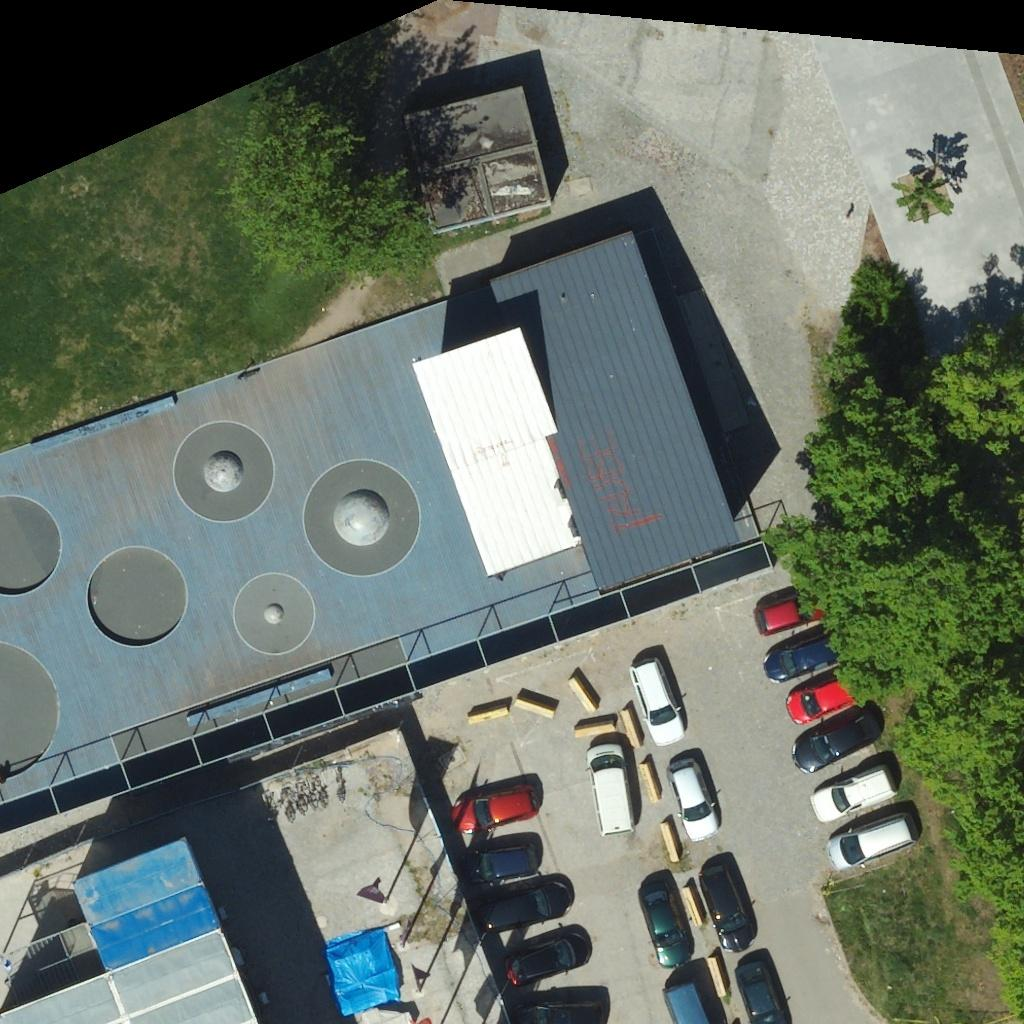samochod_osobowy: (793, 706, 880, 772), (638, 871, 693, 968), (506, 926, 591, 986), (828, 814, 917, 869), (700, 863, 755, 951), (480, 879, 573, 931), (630, 657, 684, 745), (811, 766, 895, 822), (452, 783, 538, 833), (669, 756, 719, 840), (588, 743, 632, 833), (764, 634, 835, 681), (787, 676, 854, 723), (754, 588, 821, 635), (463, 843, 539, 884), (737, 962, 784, 1023), (515, 1000, 601, 1023), (665, 983, 709, 1023)
